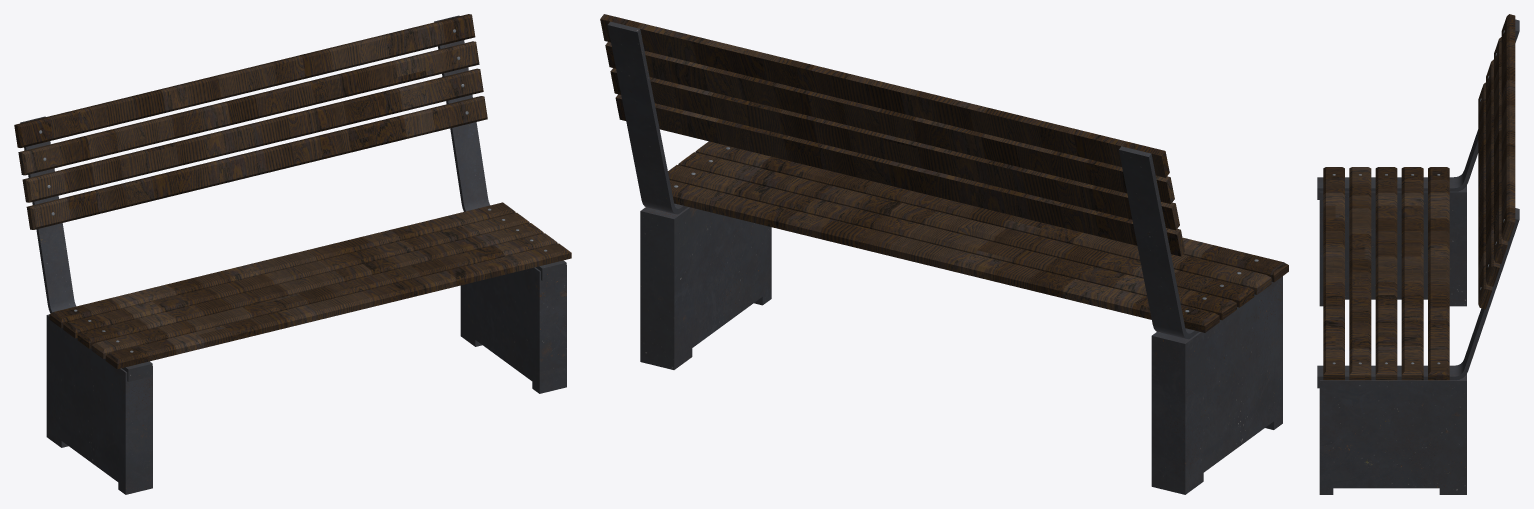
Rendered from ProbBenchC.fbx.
3 views of the same model, side by side, from view 1: azimuth 30°, elevation 25°; view 2: azimuth 150°, elevation 25°; view 3: azimuth 270°, elevation 25° (orthographic). The views are drawn at different scales.
Visible parts, largest first — view 1: PropBench_C_LOD_0; view 2: PropBench_C_LOD_0; view 3: PropBench_C_LOD_0.
Boxes of the visible parts, x1,y1,x2,y2 form: PropBench_C_LOD_0: (14,14,571,494); PropBench_C_LOD_0: (600,14,1288,494); PropBench_C_LOD_0: (1317,14,1519,494).
Size of what is drawn, in the model's own units: 188 by 117 by 77.47.
